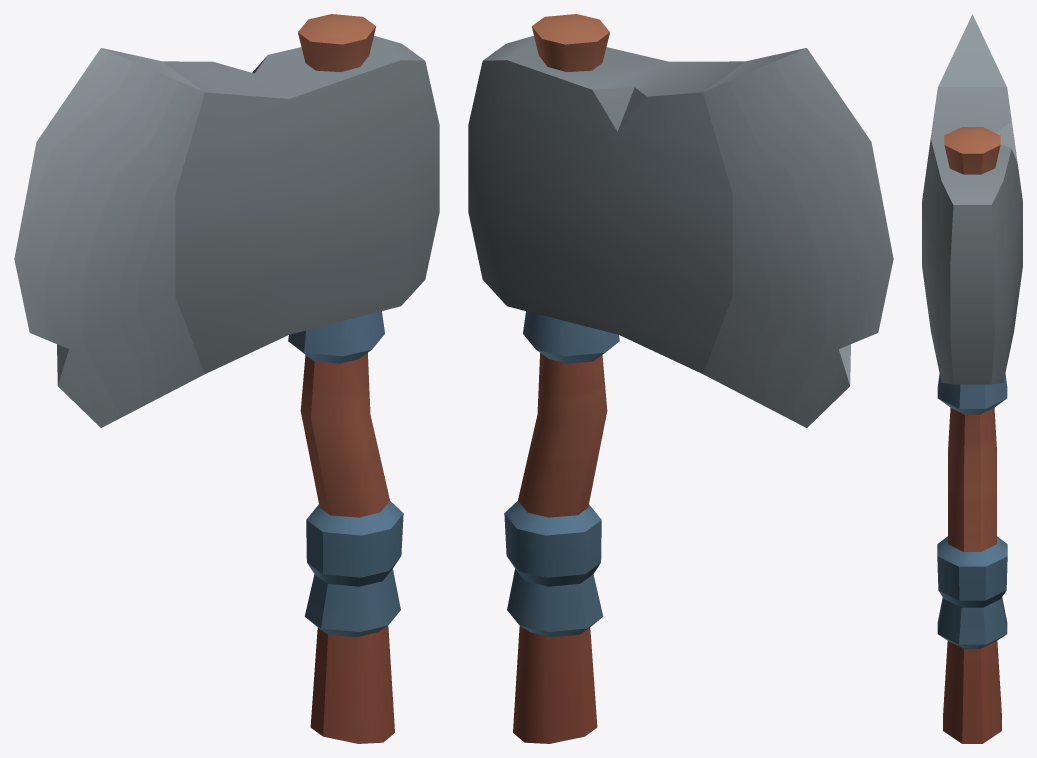
Rendered from axe_1handed.glb.
3 renders of one model, left to right at view 1: azimuth 30°, elevation 25°; view 2: azimuth 150°, elevation 25°; view 3: azimuth 270°, elevation 25°, orthographic. The views are drawn at different scales.
Parts seen in each view (by area): view 1: axe_1handed; view 2: axe_1handed; view 3: axe_1handed.
Boxes of the visible parts, left/top/right/bottom form: axe_1handed: left=14, top=14, right=439, bottom=743; axe_1handed: left=468, top=14, right=893, bottom=743; axe_1handed: left=922, top=14, right=1022, bottom=743.
Size of the model in its own units: 0.7144 by 1.24 by 0.1849.
1 material, 1 textured.
